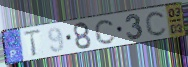3: (124, 13, 144, 42)
8: (73, 21, 93, 51)
9: (47, 27, 66, 54)
C: (94, 18, 118, 46), (145, 10, 169, 37)
T: (23, 27, 43, 57)
